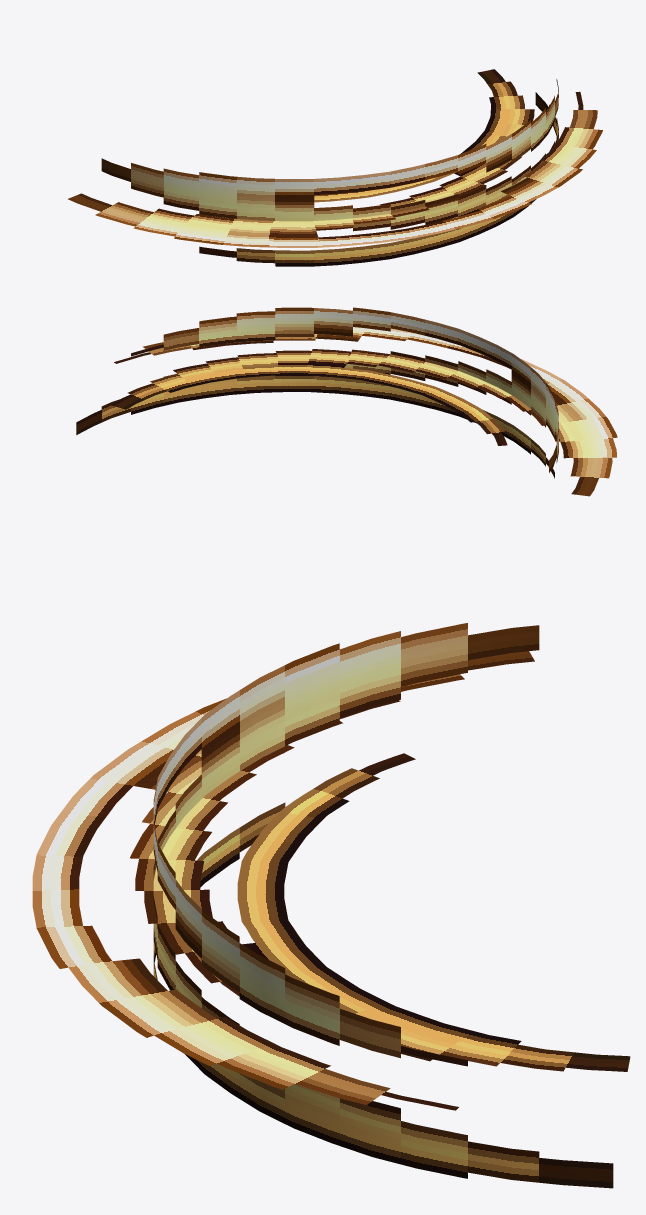
File: banyuan_0002.FBX
The picture shows the model from 3 angles, top to bottom: view 1: azimuth 30°, elevation 25°; view 2: azimuth 150°, elevation 25°; view 3: azimuth 270°, elevation 25°; orthographic projection. The views are drawn at different scales.
Parts seen in each view (by area): view 1: banyuan_0002; view 2: banyuan_0002; view 3: banyuan_0002.
Boxes of the visible parts, x1=… form: banyuan_0002: x1=68, y1=69, x2=602, y2=266; banyuan_0002: x1=76, y1=307, x2=617, y2=496; banyuan_0002: x1=32, y1=623, x2=630, y2=1188.
Size of the model in its own units: 50.59 by 8.03 by 24.02.
